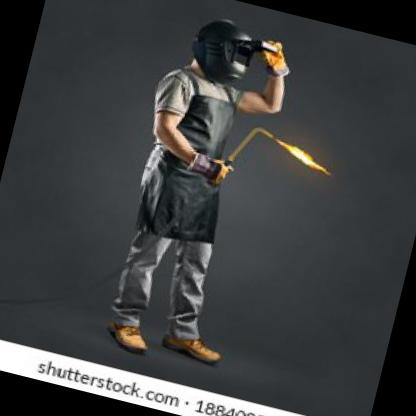Gloves: (254, 37, 299, 82), (185, 150, 234, 187)
